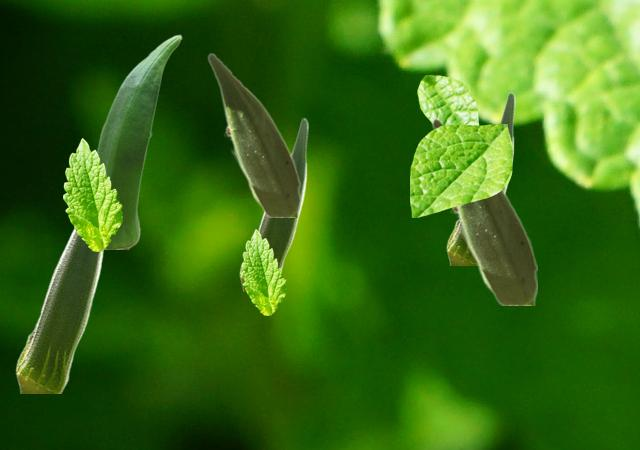okra: (431, 117, 536, 304), (97, 34, 181, 248), (207, 52, 299, 216), (15, 228, 104, 392), (239, 117, 307, 290), (446, 91, 514, 264)
